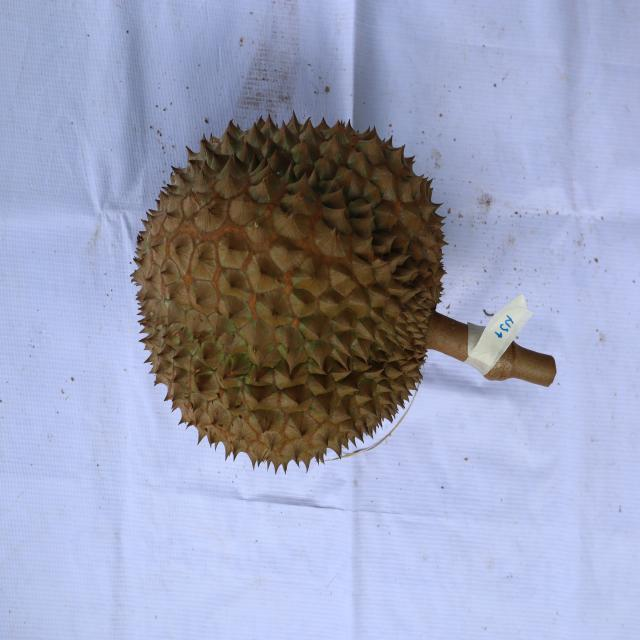mature: (130, 112, 452, 483)
